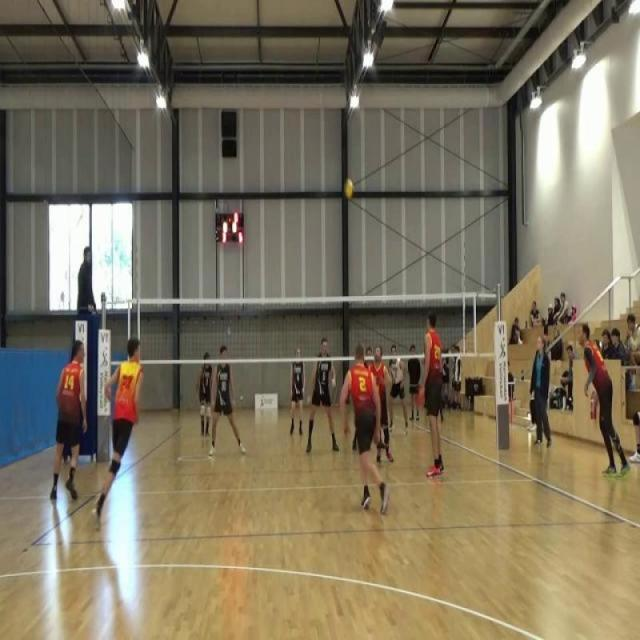volleyball: (342, 175, 356, 202)
